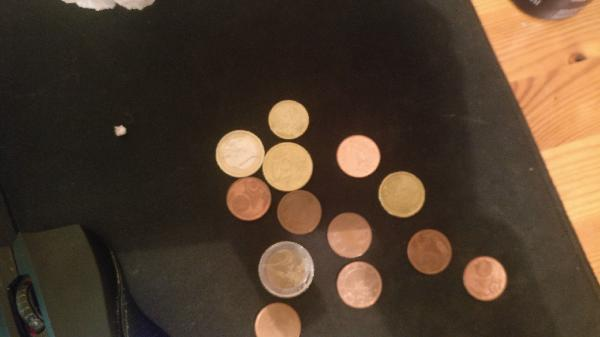Fifty Cent: (264, 144, 314, 192)
Five Cent: (333, 259, 384, 309), (462, 256, 507, 303), (274, 190, 323, 233), (407, 229, 452, 274), (328, 211, 371, 258), (226, 177, 271, 220), (337, 135, 381, 176), (253, 302, 302, 337)
One Euro: (216, 127, 264, 176)
Ten Cent: (264, 98, 315, 141)
Twenty Cent: (379, 170, 427, 220)
Two Euro: (258, 241, 318, 297)
